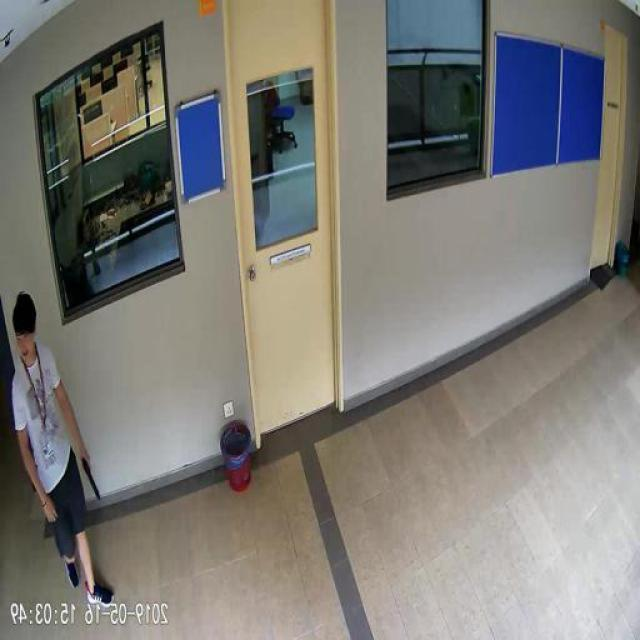weapon: (75, 446, 105, 504)
